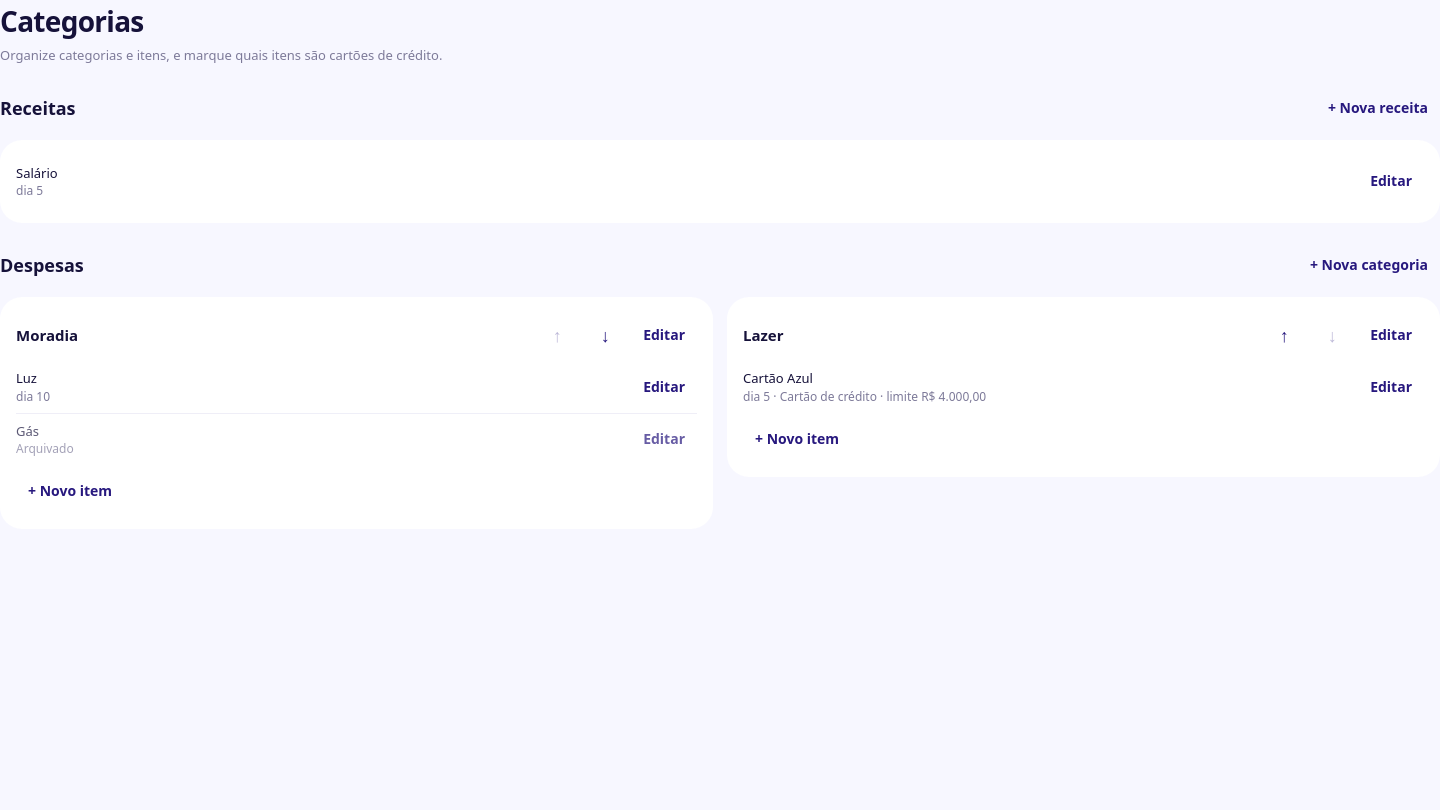
Test case: CategoriasPage › apagar_categoria_sem_lancamentos_remove_da_lista
The image size is (1440, 810).
Step 1. Click the button with aria-label "Editar categoria Lazer" → click(1391, 335), box [1358,313,1424,357]
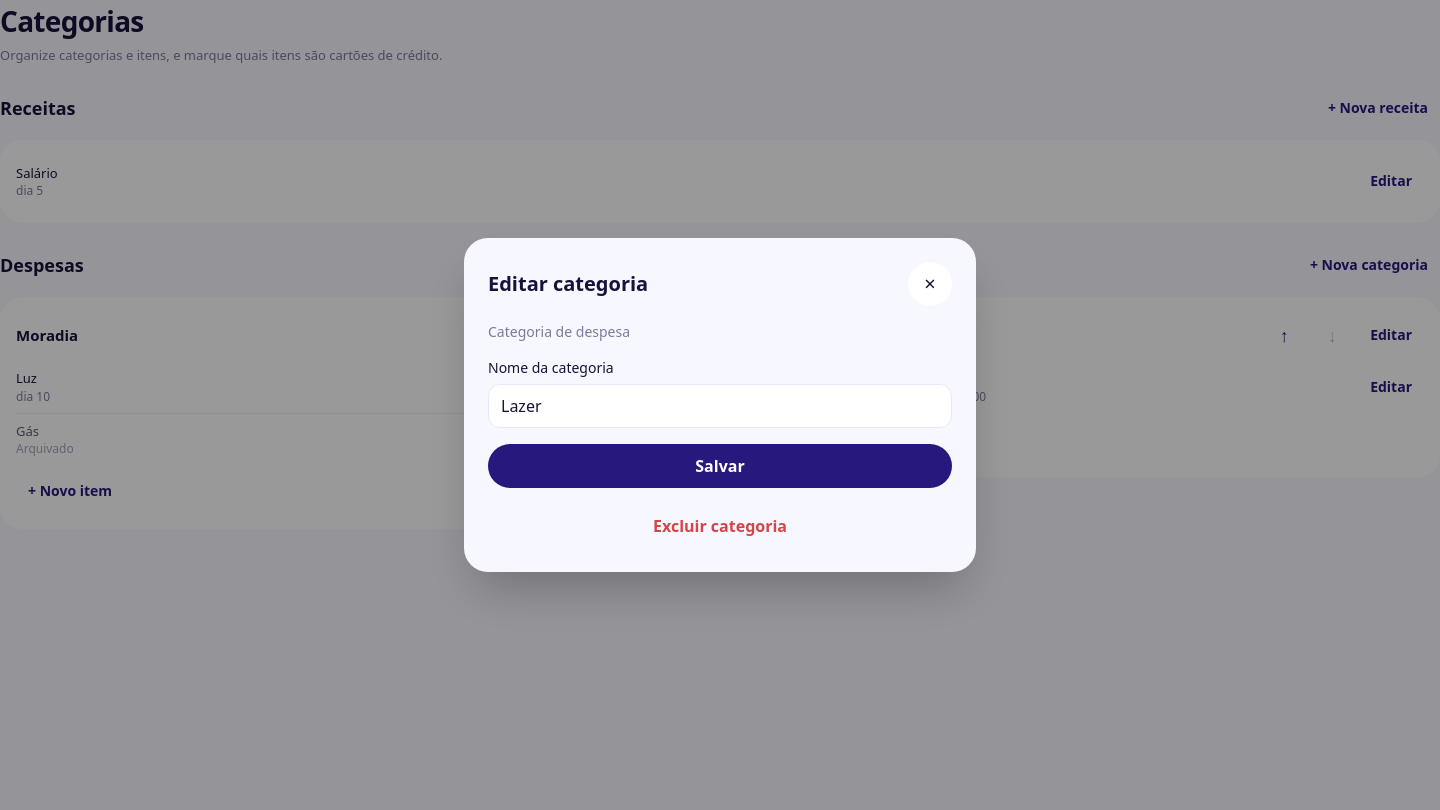
Step 2. Click the button "Excluir categoria" → click(720, 526), box [488,504,952,548]
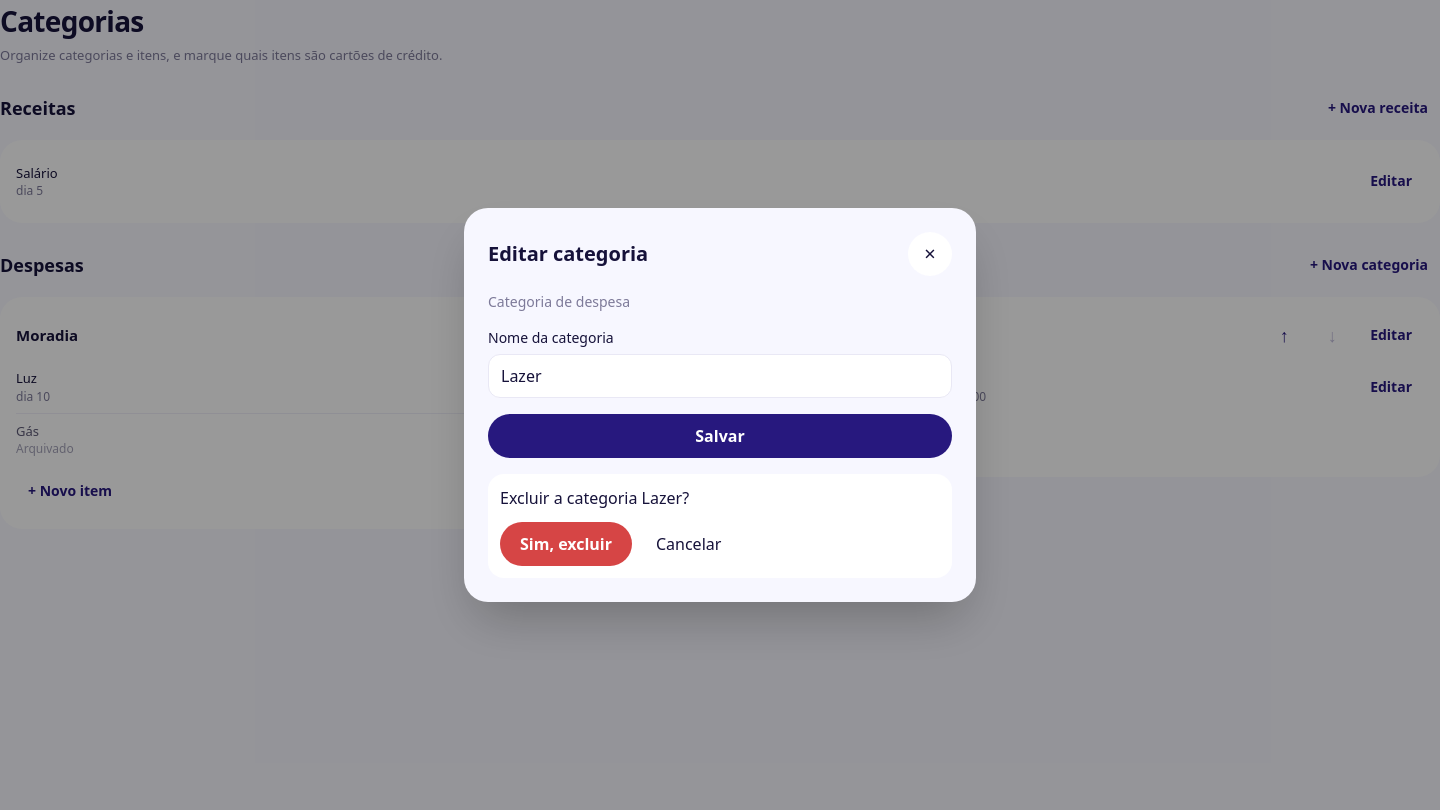
Step 3. Click the button "Sim, excluir" → click(566, 544), box [500,522,632,566]
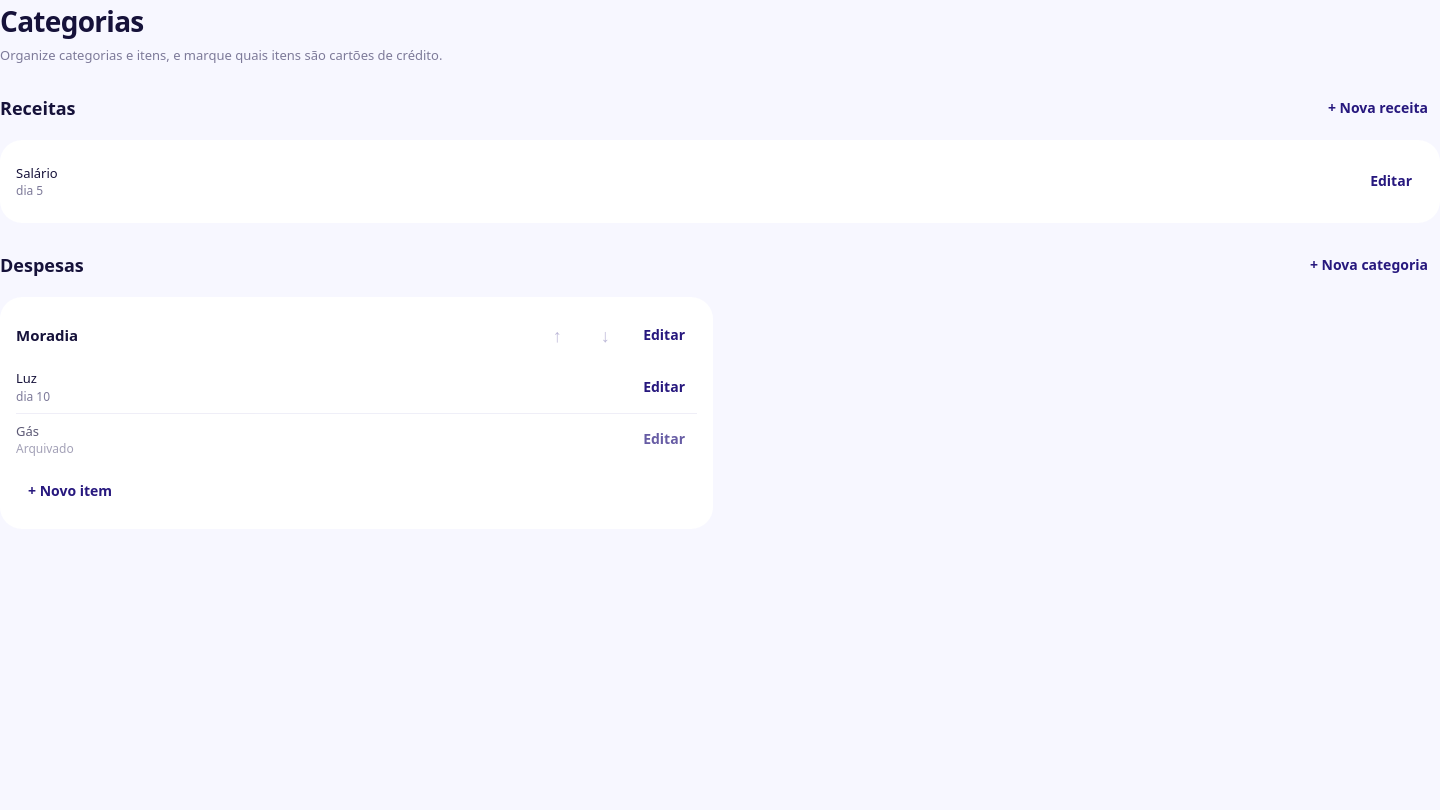
Now the heading "Lazer" is gone
Now the dialog is gone
